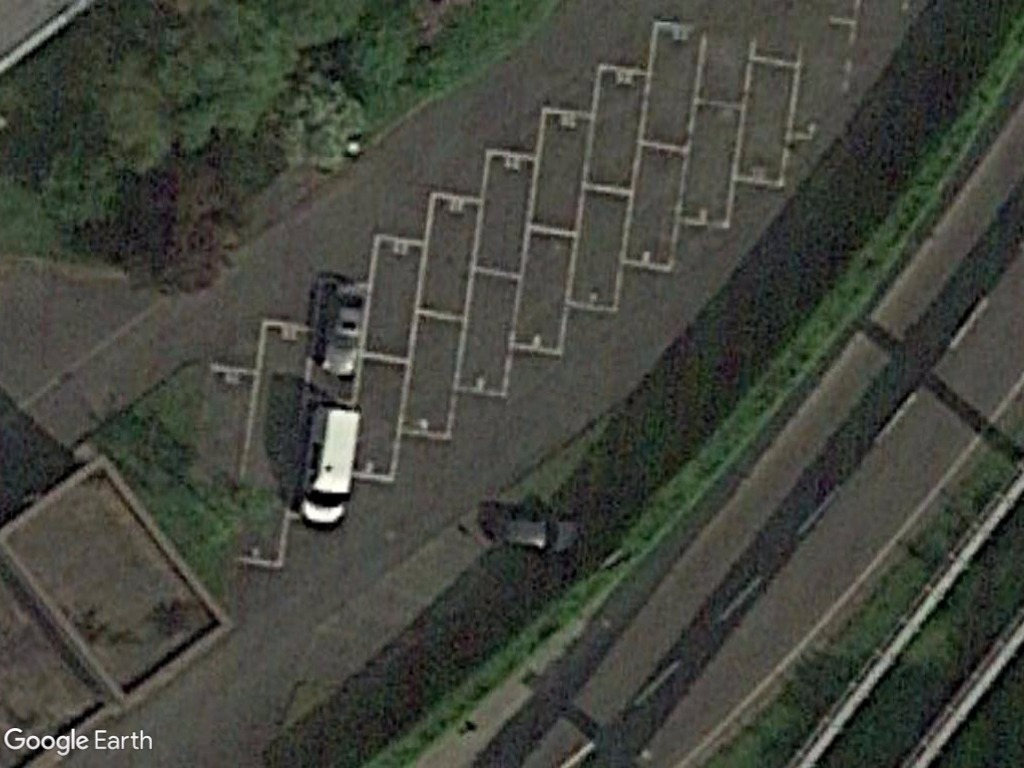van: (295, 397, 364, 536)
